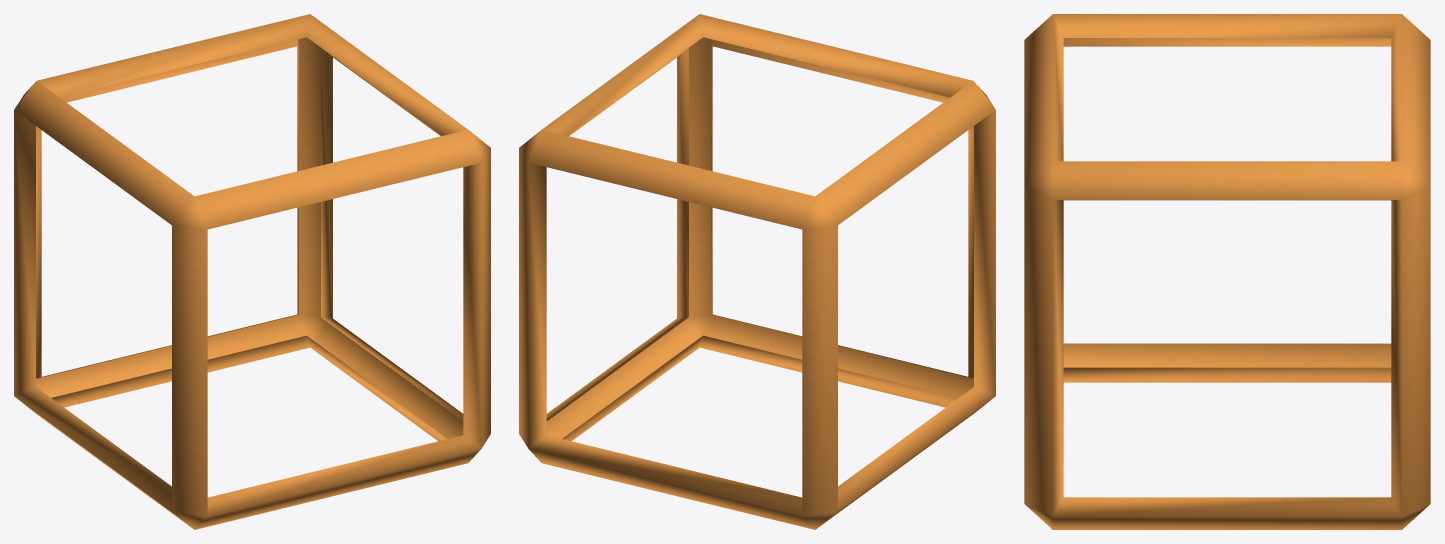
Rendered from DarkDiceBrace.fbx.
3 renders of one model, left to right at view 1: azimuth 30°, elevation 25°; view 2: azimuth 150°, elevation 25°; view 3: azimuth 270°, elevation 25°, orthographic. The views are drawn at different scales.
Visible parts, largest first — view 1: DiceRim; view 2: DiceRim; view 3: DiceRim.
Part boxes in pixels (left/top/right/bottom): DiceRim: left=14, top=14, right=490, bottom=529; DiceRim: left=519, top=14, right=995, bottom=529; DiceRim: left=1024, top=14, right=1430, bottom=529.
Size of the model in its own units: 112 by 112 by 112.
